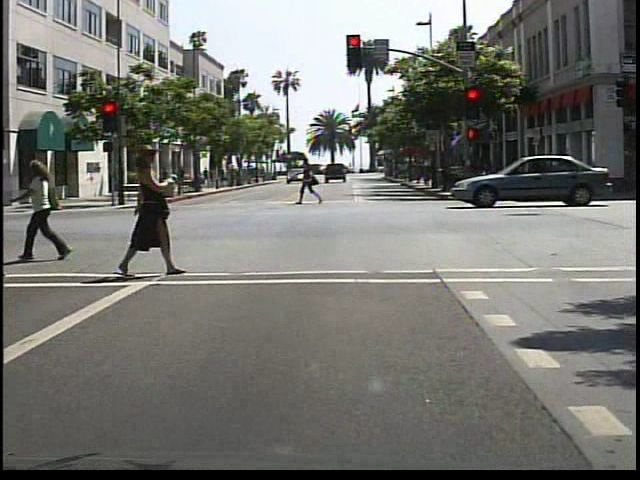person: (115, 136, 196, 277), (25, 157, 80, 266), (297, 156, 326, 206), (1, 146, 6, 285), (173, 163, 189, 192)
